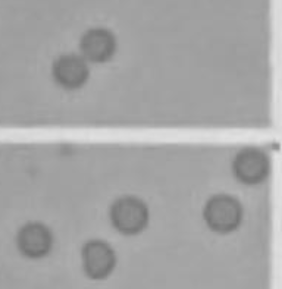cell: (199, 188, 246, 238), (106, 190, 152, 239), (11, 216, 57, 263), (229, 140, 274, 188), (44, 47, 93, 91), (76, 236, 121, 283), (75, 21, 120, 66)
